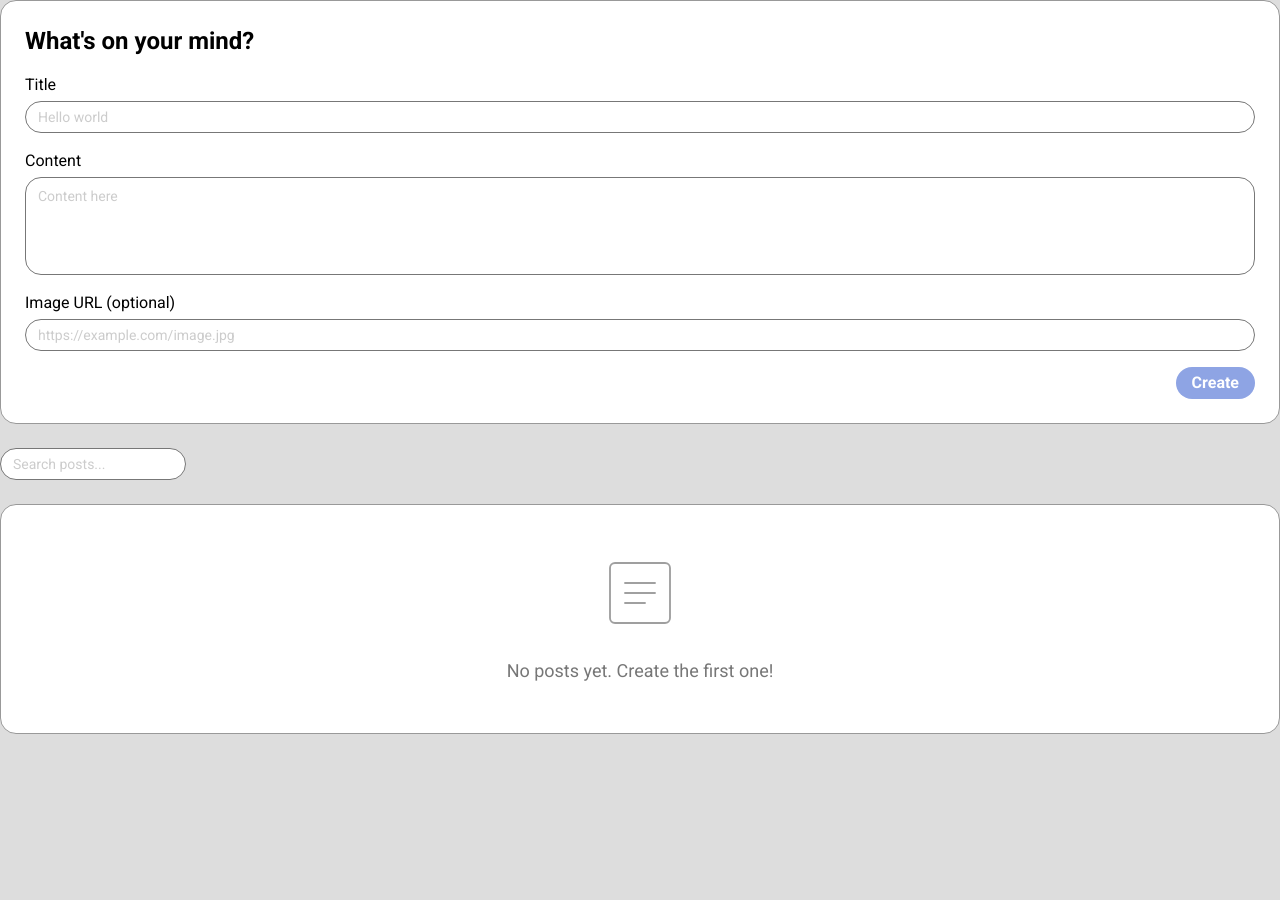
it: Post CRUD flow integration › Login -> Create Post -> Edit Post -> State updated without refetch
Type "Hello World" into the field labelled "Title" at (640, 117), box x1=25 y1=101 x2=1255 y2=133
Type "First post content" into the text box labelled "Content" at (640, 226), box x1=25 y1=177 x2=1255 y2=275
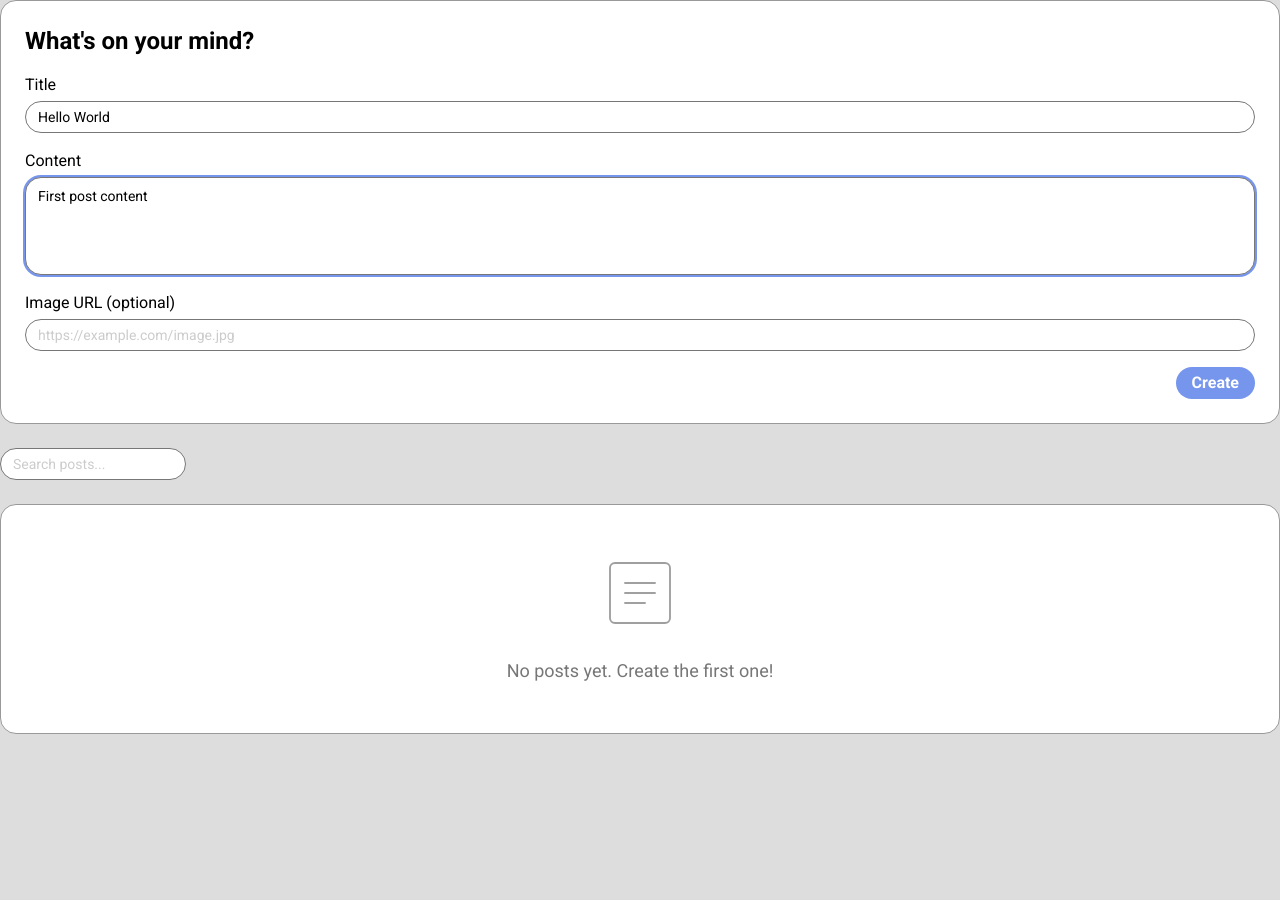
Click the button "Create" at (1215, 383), box x1=1176 y1=367 x2=1255 y2=399
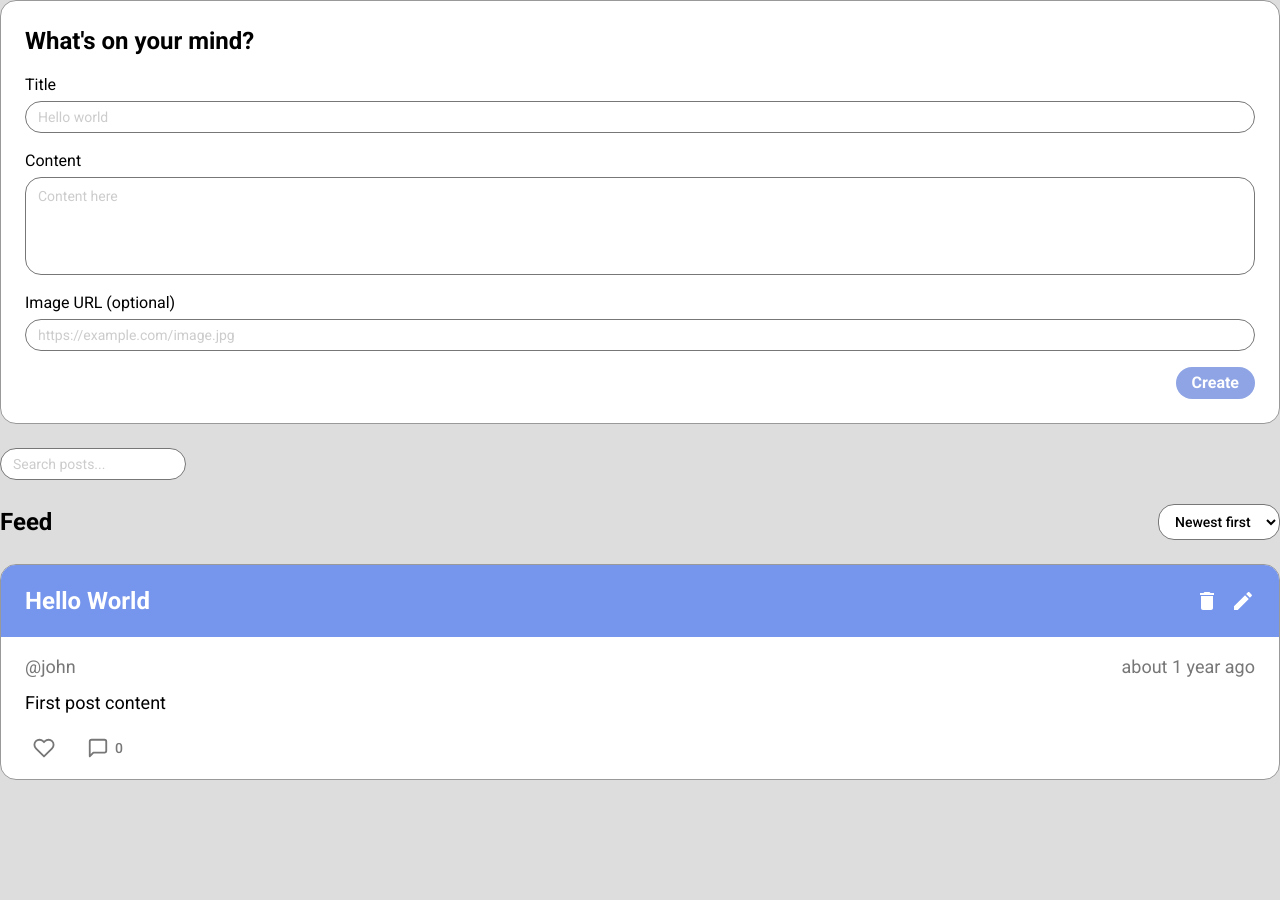
Click the button named "edit post" at (1243, 601), box x1=1231 y1=589 x2=1255 y2=613
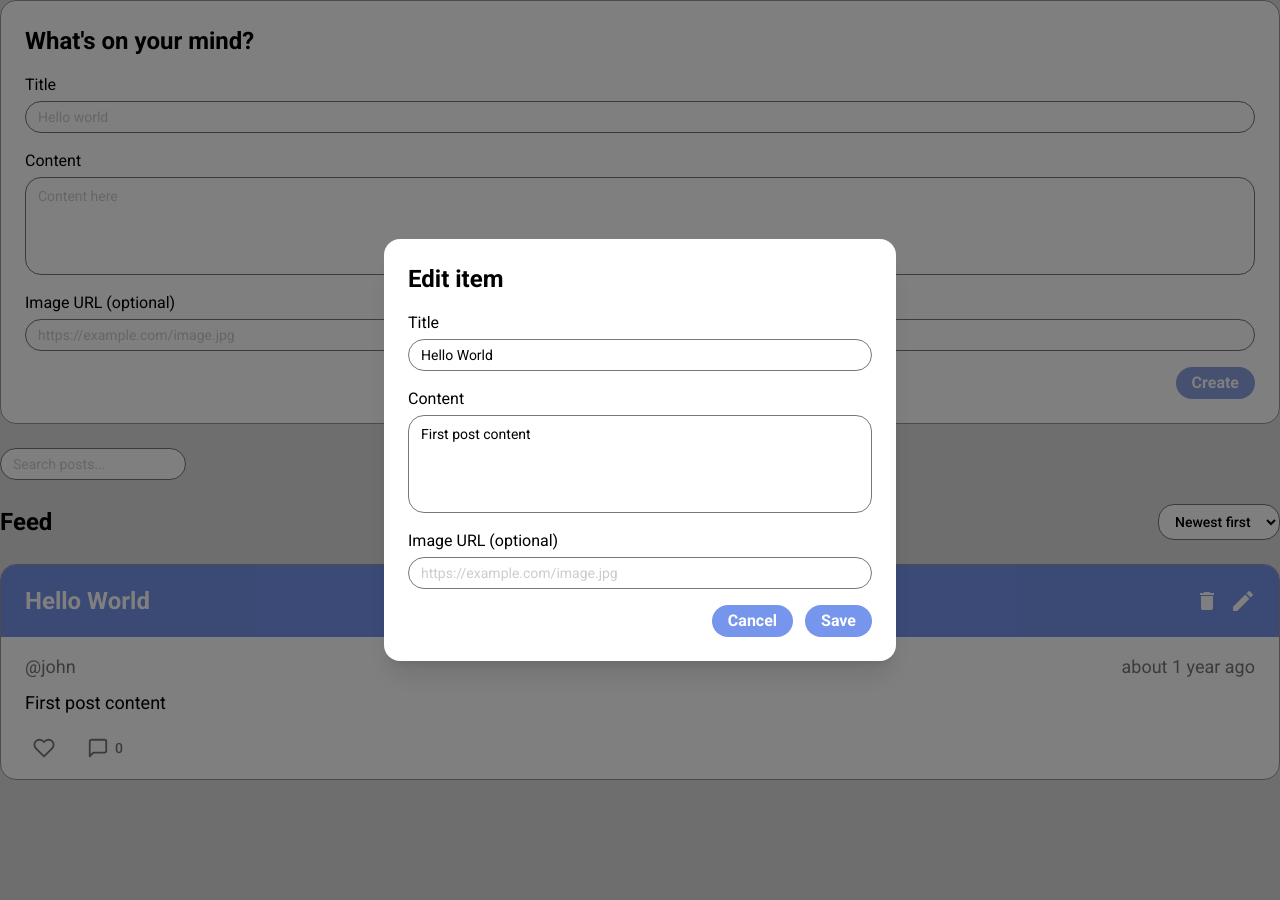
Replace the text in the field showing "Hello World" with "Updated Title" at (640, 355), box x1=408 y1=339 x2=872 y2=371
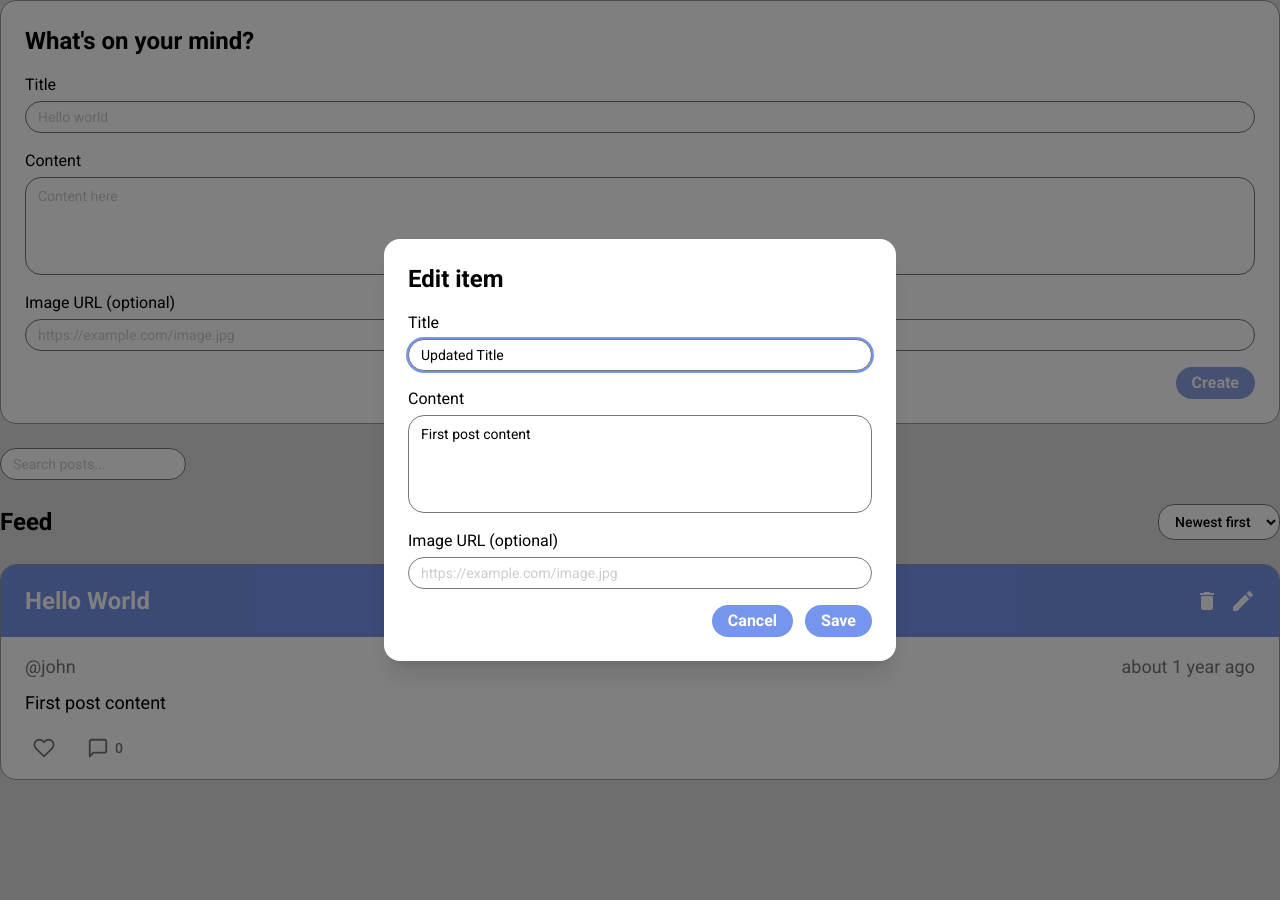
Replace the text in the text box showing "First post content" with "Updated content" at (640, 464), box x1=408 y1=415 x2=872 y2=513
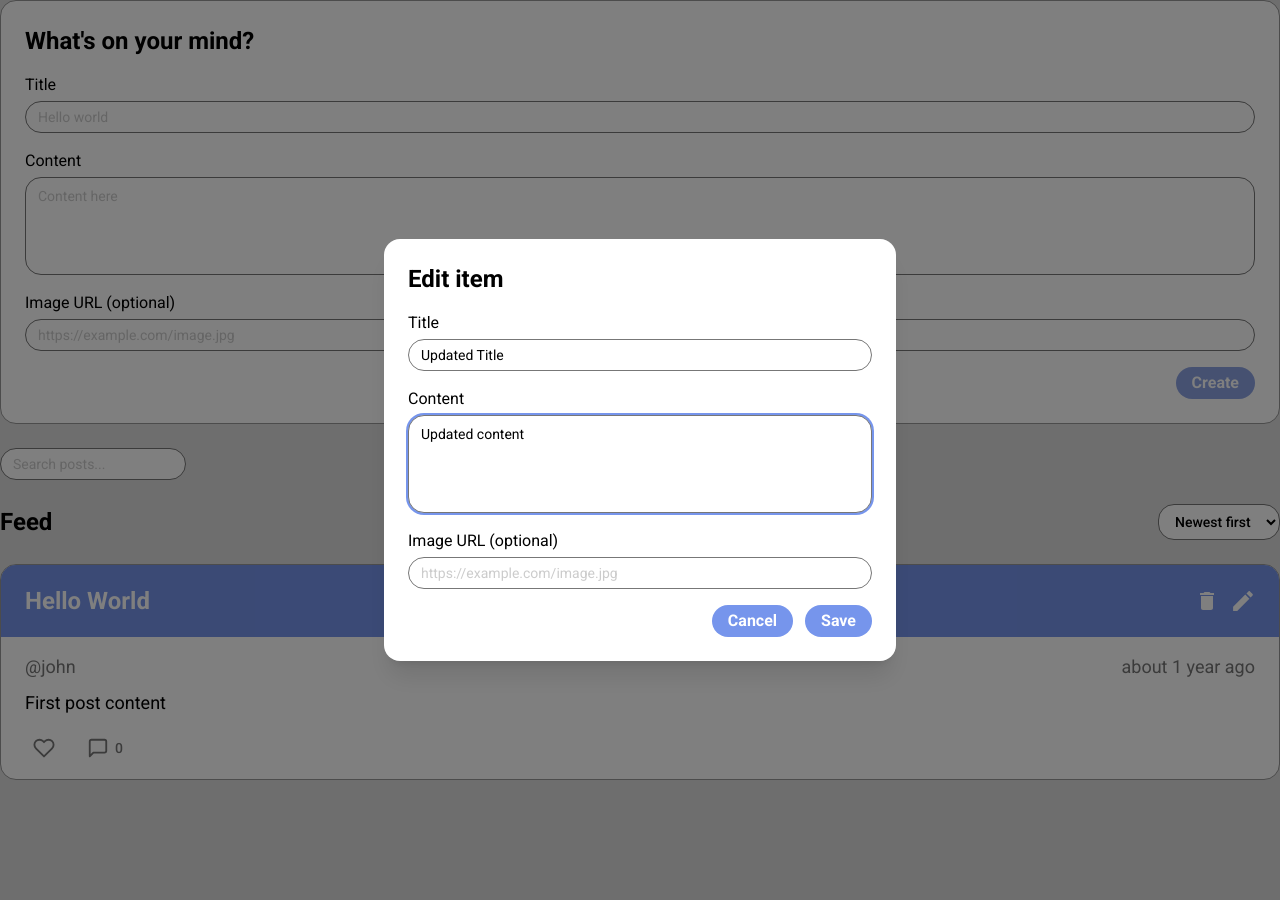
Click the button "Save" at (839, 621), box x1=805 y1=605 x2=872 y2=637
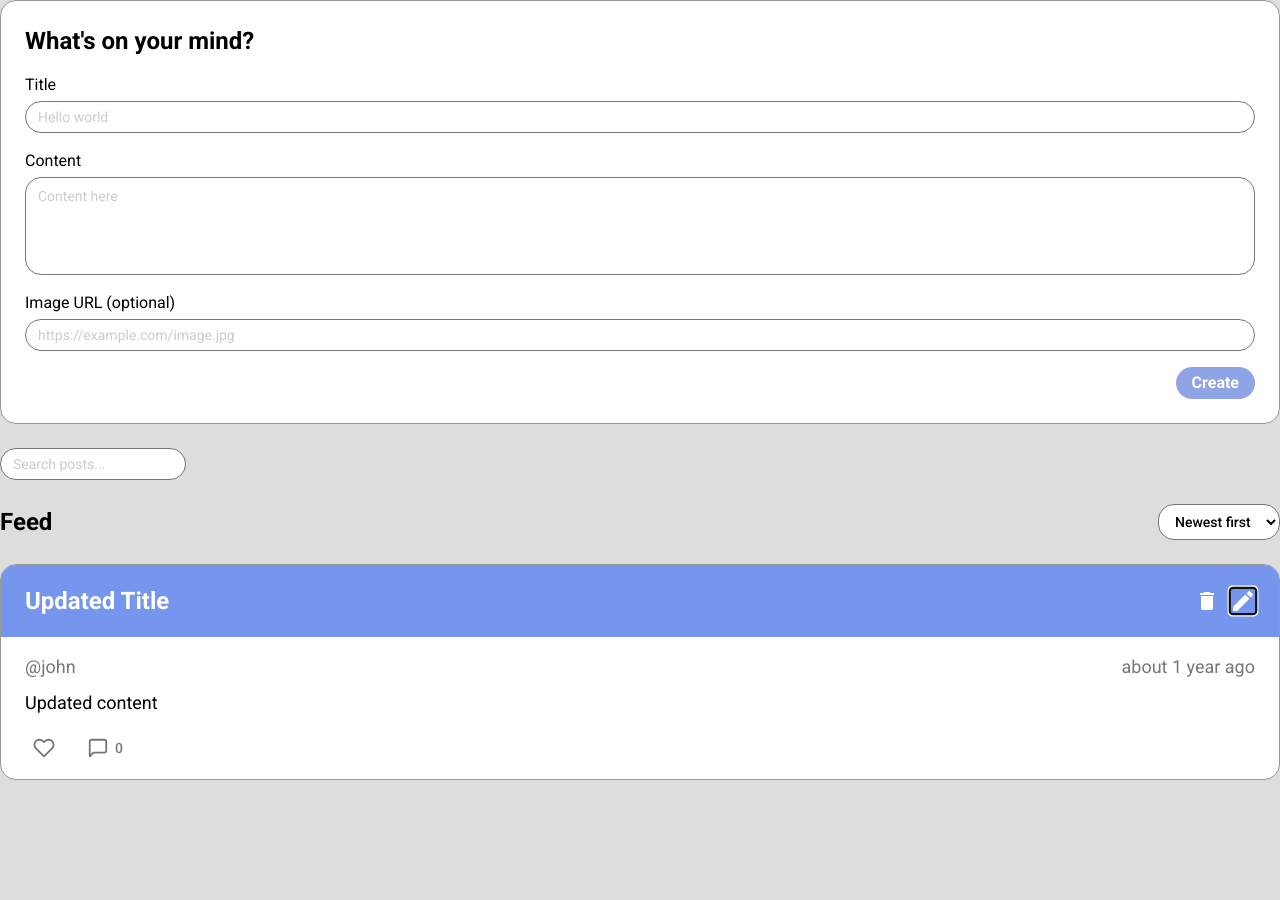
Expected: the heading "Updated Title" is shown, x1=25 y1=585 x2=169 y2=617
Expected: the text "Updated content" is shown, x1=25 y1=692 x2=158 y2=713
